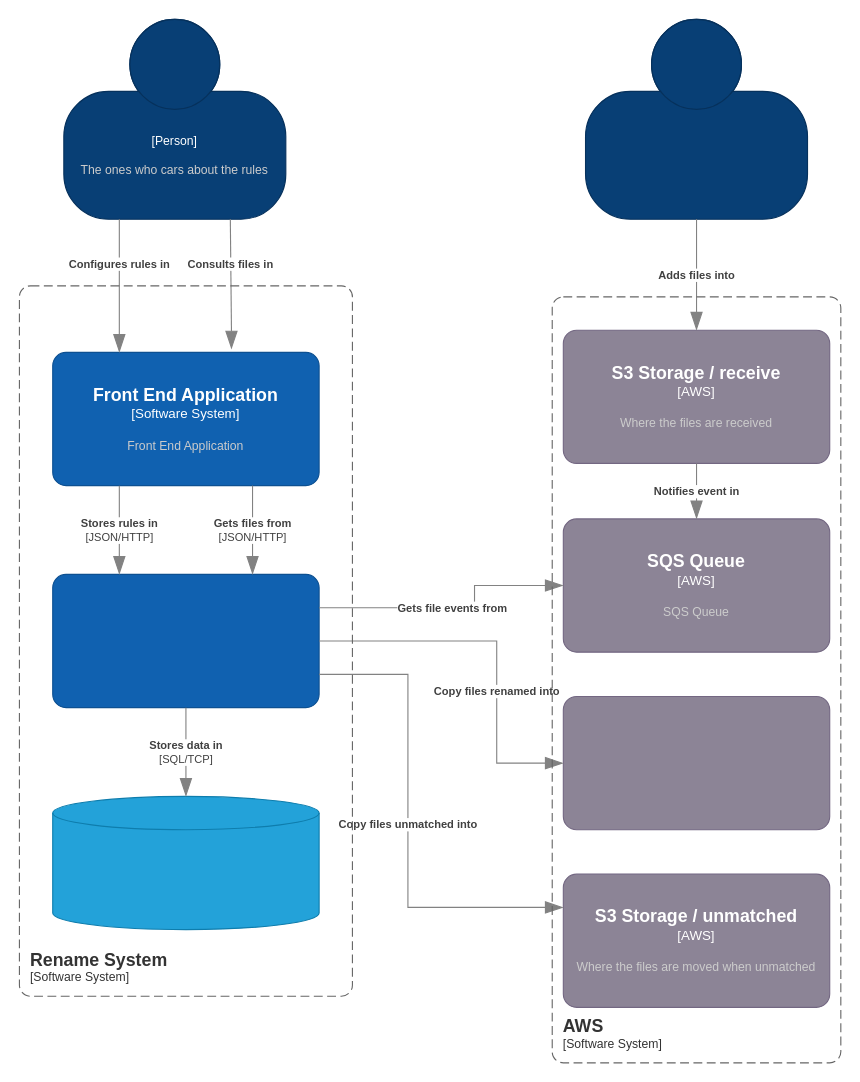
The diagram is 860 pixels wide and 1082 high, and some of its shapes have lost their labels. The centre of each missing label's shape, as x and y in pixels:
[Person] File Producer: point 696,118
Back End Application [Software System] Back End Application: point 185,640
PostgreSQL Database [Container: PostgreSQL] Stores rules and executions: point 185,862
S3 Storage / renamed [AWS] Where the files moved when renamed: point 696,762
